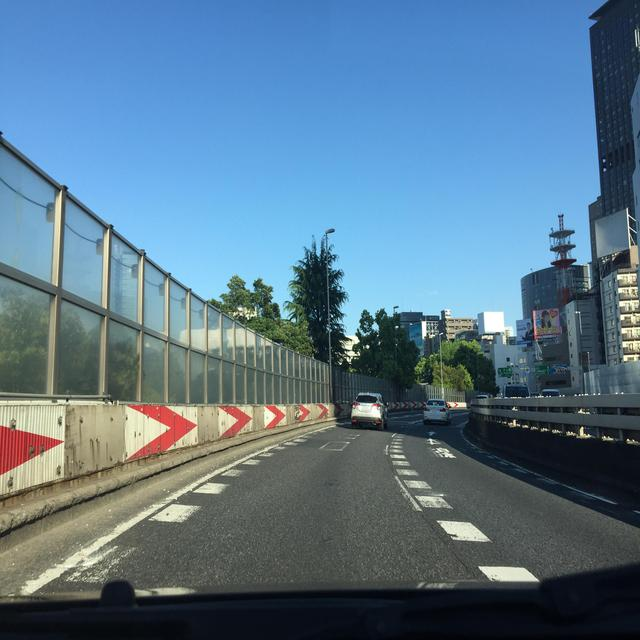Barrier: (0, 400, 352, 507), (386, 393, 639, 481)
Billboard: (516, 307, 559, 375), (409, 322, 423, 354)
Car: (351, 391, 451, 430), (476, 384, 559, 398)
Vegetation: (327, 244, 441, 389), (441, 337, 499, 396)
